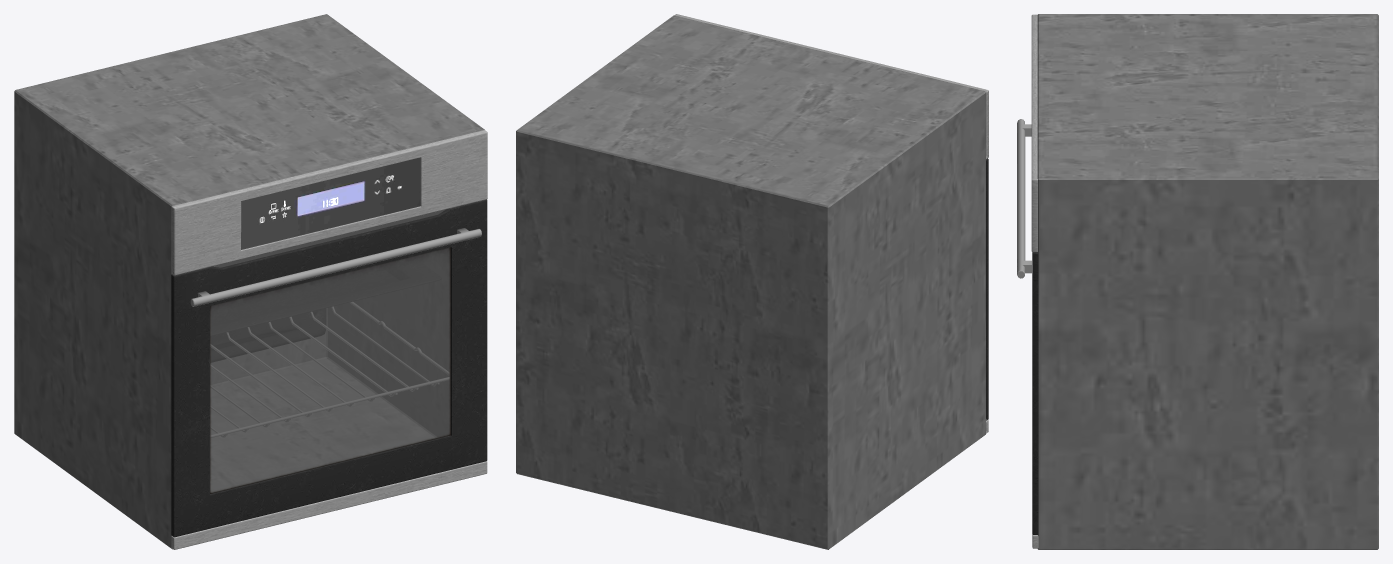
File: microwave.glb
3 views of the same model, side by side, from view 1: azimuth 30°, elevation 25°; view 2: azimuth 150°, elevation 25°; view 3: azimuth 270°, elevation 25° (orthographic). The views are drawn at different scales.
Visible parts, largest first — view 1: Macro; view 2: Macro; view 3: Macro.
Part boxes in pixels (box(x1,y1,x2,y2)): Macro: box(14, 14, 487, 549); Macro: box(516, 14, 988, 549); Macro: box(1017, 14, 1378, 549).
Size of the model in its own units: 0.6463 by 0.678 by 0.5978.
Materials: 2 (2 with a texture image).
